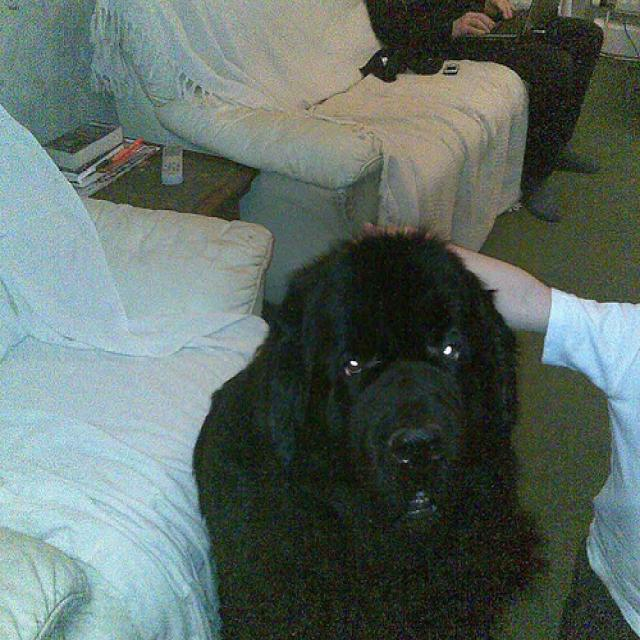dog-newfoundland: (186, 214, 557, 637)
